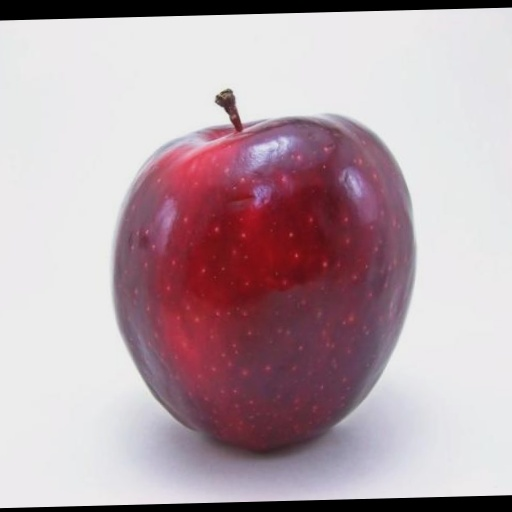fruit: (114, 91, 414, 450)
